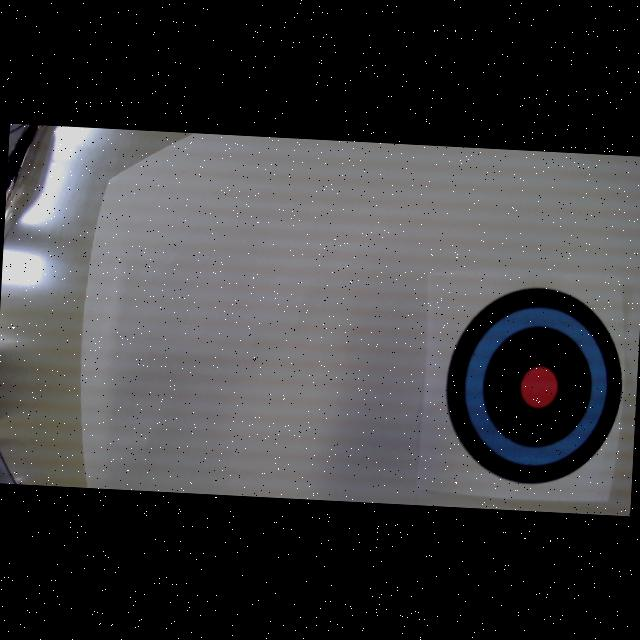COGNITIVE: (442, 284, 628, 490)
